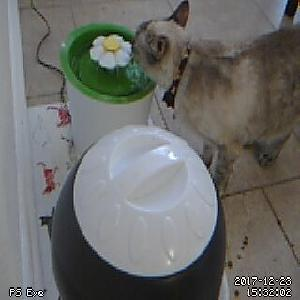cat: (130, 1, 300, 207)
fountain: (59, 23, 160, 104)
